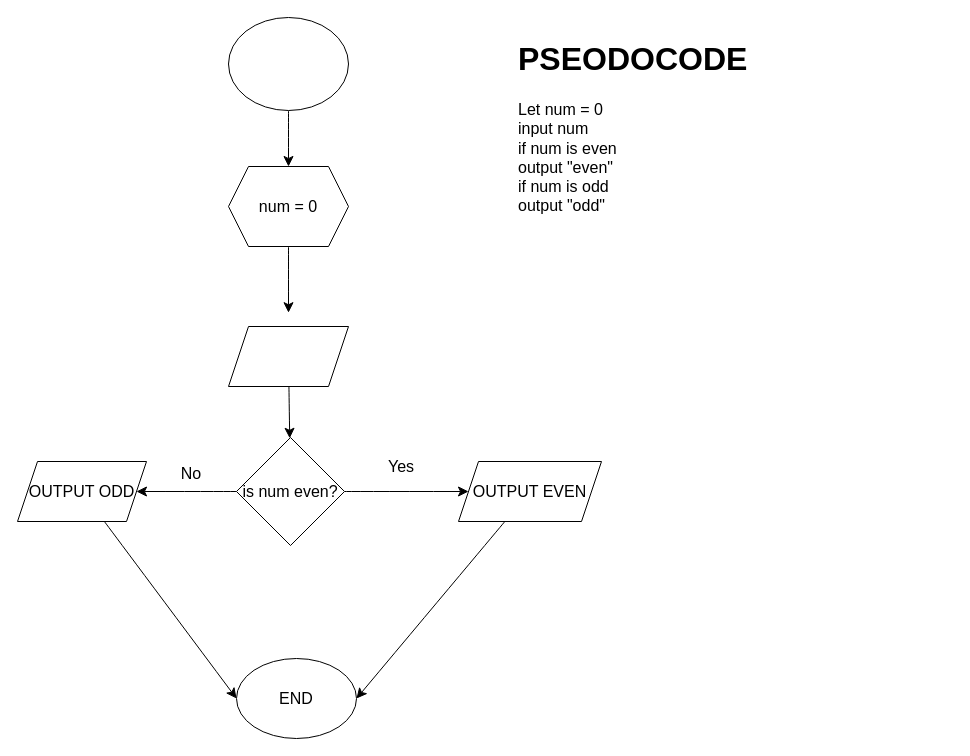
The diagram is 970 pixels wide and 756 high, and some of its shapes have lost their labels. Here are the shapes that lost their labels. From the top down, the centre of each, then its label:
At point 288,63: "START".
At point 288,356: "INPUT num".
